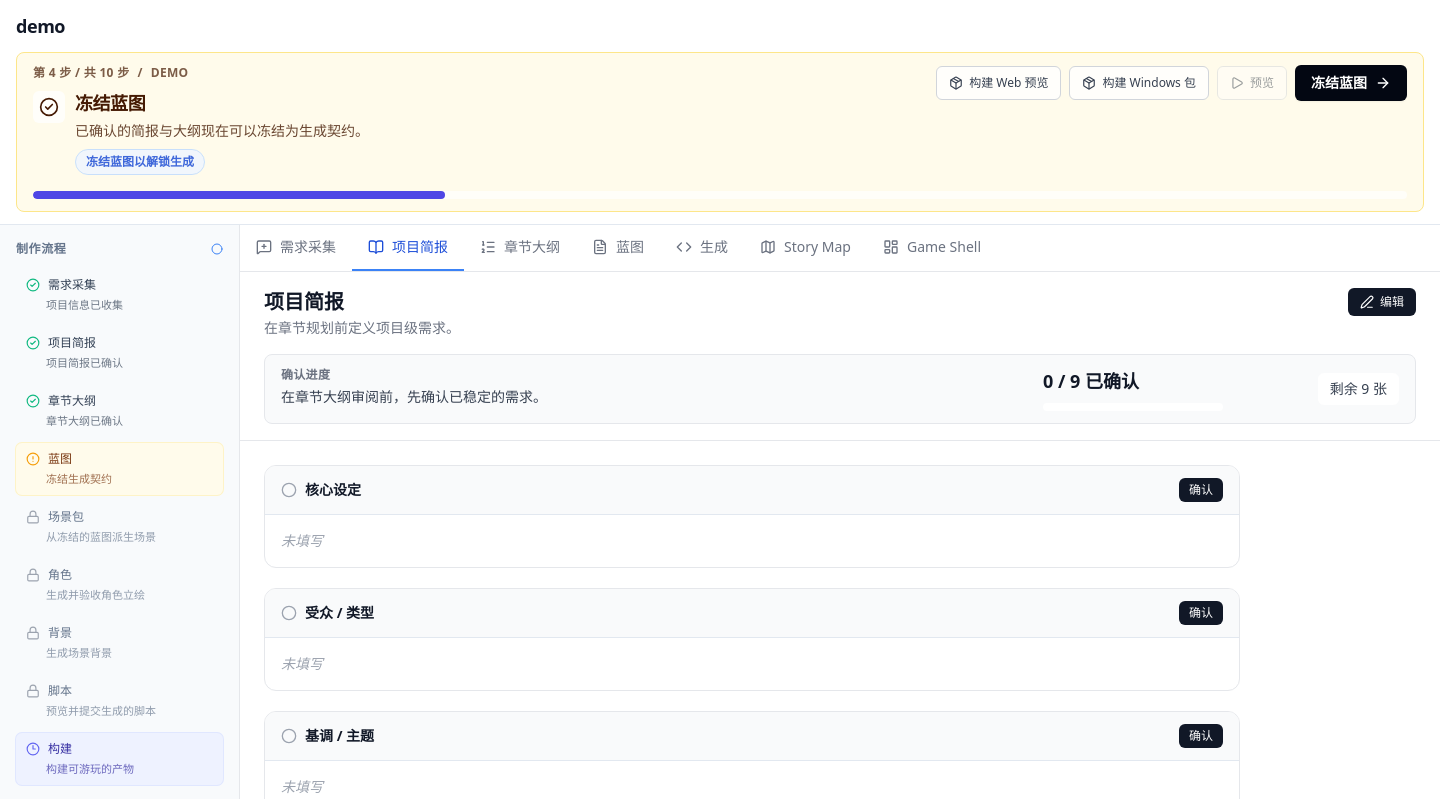
Test: ProjectWorkspacePage generation gating › disables the generation tab start actions until the blueprint is frozen
Click the button "生成" at (702, 248), box x1=660 y1=225 x2=744 y2=271
(page scrolled)
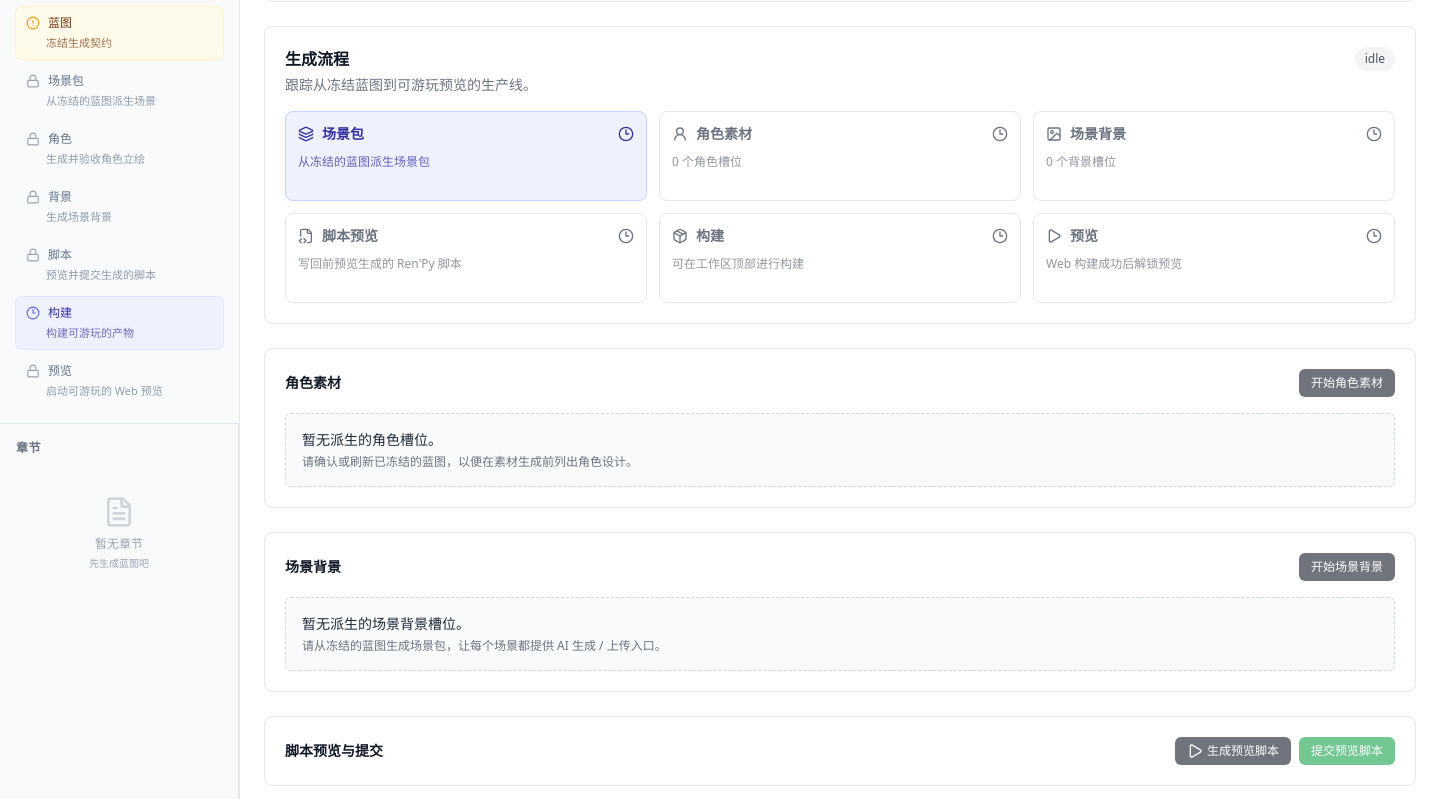
Now the button "开始角色素材" is disabled, box x1=1299 y1=369 x2=1395 y2=397
Now the button "开始场景背景" is disabled, box x1=1299 y1=553 x2=1395 y2=581
